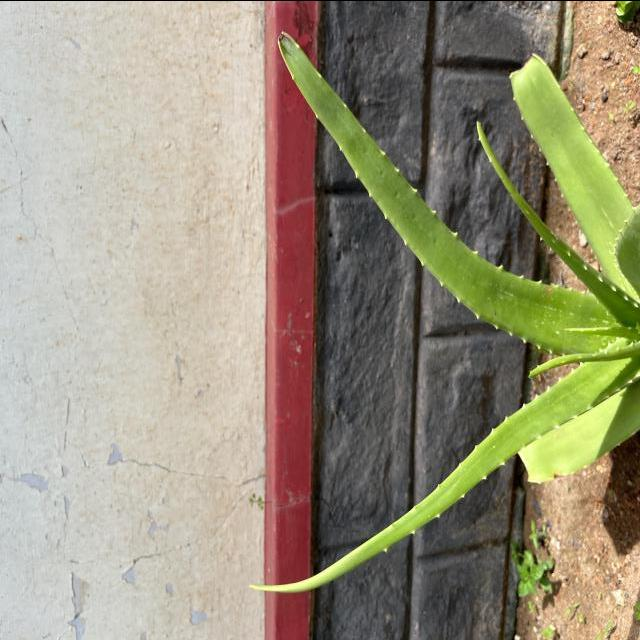Aloe vera: (272, 26, 623, 356), (243, 362, 631, 600)
